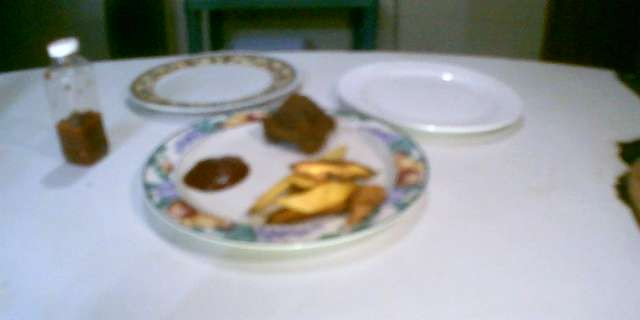chicken: (257, 89, 342, 155)
empty_plate: (329, 53, 532, 144), (123, 40, 304, 123)
ketchup_bottle: (35, 31, 115, 171)
ketchup_portion: (182, 148, 252, 194)
potatoe_fries: (252, 145, 390, 236)
